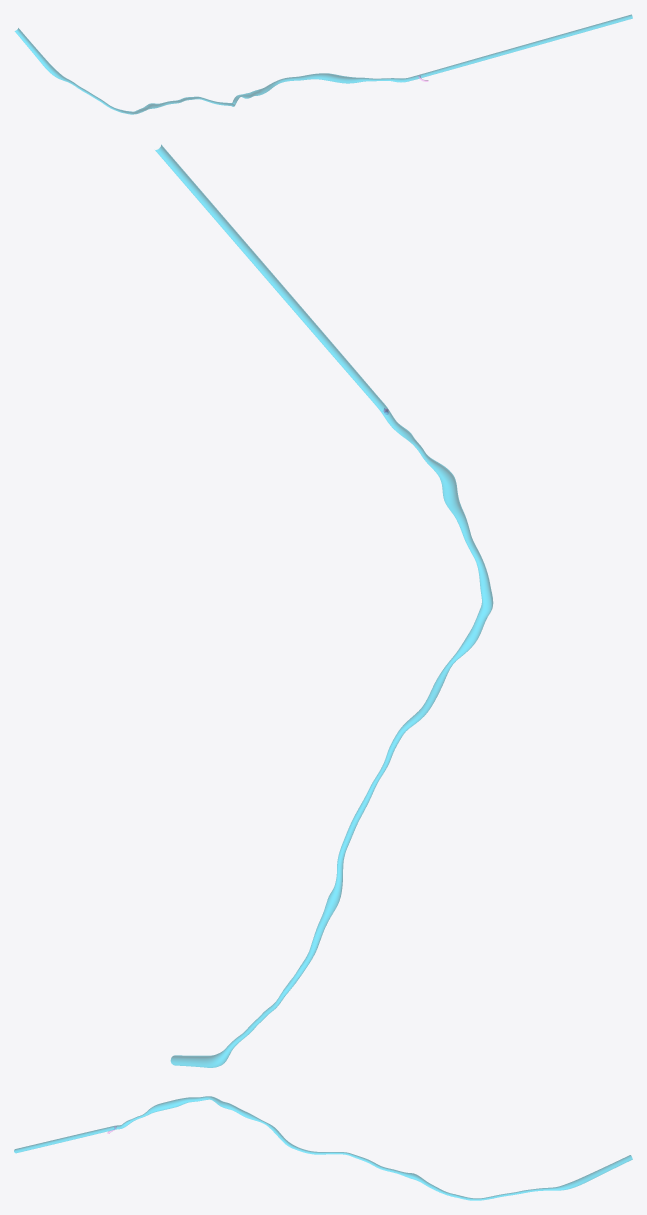
The model's file is sparc-f002-vagus-nervous-01.glb.
The picture shows the model from 3 angles, top to bottom: view 1: azimuth 30°, elevation 25°; view 2: azimuth 150°, elevation 25°; view 3: azimuth 270°, elevation 25°; orthographic projection. The views are drawn at different scales.
Parts seen in each view (by area): view 1: SPARC426_f002_L_thoracic_vagus_surface, SPARC426_f002_L_cervical_vagus_surface; view 2: SPARC426_f002_L_thoracic_vagus_surface, SPARC426_f002_L_cervical_vagus_surface; view 3: SPARC426_f002_L_thoracic_vagus_surface, SPARC426_f002_L_cervical_vagus_surface.
Boxes of the visible parts, x1=… form: SPARC426_f002_L_thoracic_vagus_surface: x1=178, y1=14, x2=632, y2=106; SPARC426_f002_L_cervical_vagus_surface: x1=15, y1=28, x2=179, y2=114; SPARC426_f002_L_thoracic_vagus_surface: x1=155, y1=144, x2=493, y2=846; SPARC426_f002_L_cervical_vagus_surface: x1=170, y1=844, x2=347, y2=1067; SPARC426_f002_L_thoracic_vagus_surface: x1=14, y1=1096, x2=381, y2=1168; SPARC426_f002_L_cervical_vagus_surface: x1=380, y1=1155, x2=632, y2=1200.
Bounding box in the file's own units: 0.2498 × 0.1451 × 0.418.
